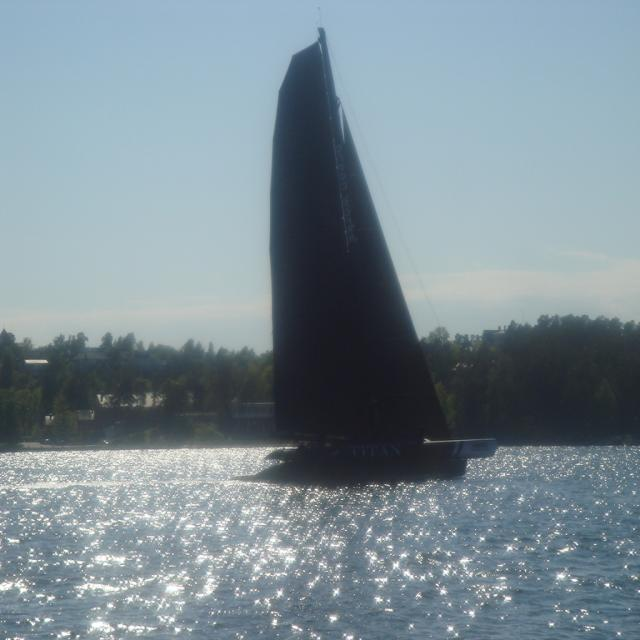Boat: (248, 30, 485, 460)
